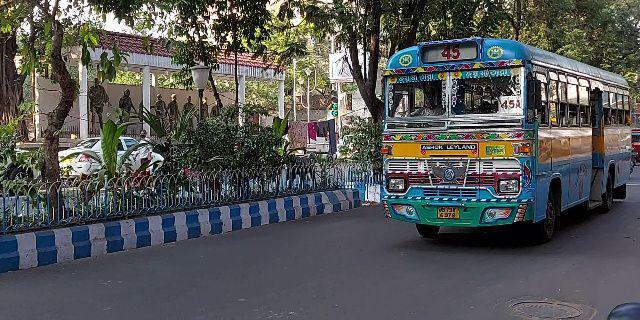Bus: (374, 34, 634, 245)
